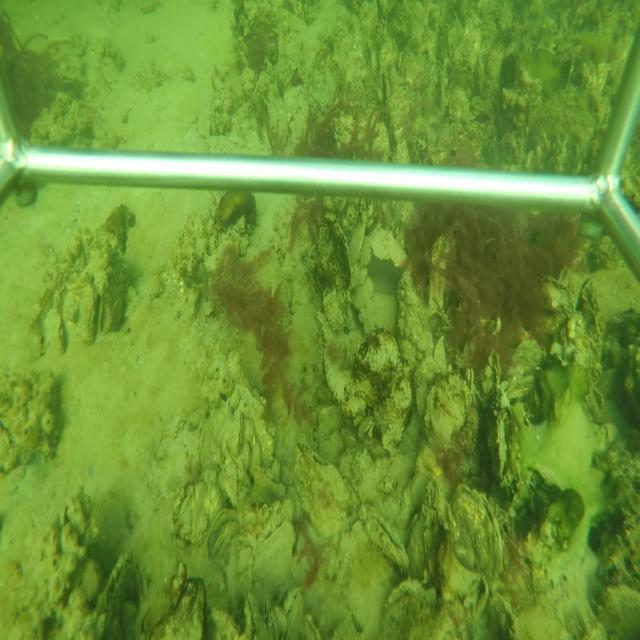Oyster-Closed: (293, 433, 363, 536), (449, 482, 505, 582), (313, 307, 367, 404), (394, 268, 435, 376), (94, 545, 136, 637), (250, 520, 298, 592), (489, 350, 512, 487), (362, 508, 411, 572), (327, 223, 355, 301), (204, 500, 241, 557), (367, 223, 411, 270), (535, 275, 575, 325), (220, 442, 241, 504), (249, 464, 287, 495), (243, 588, 264, 640), (210, 608, 241, 639), (229, 410, 244, 458)
Oyster-Indeterminate: (422, 370, 474, 450)
Oyster-Open: (375, 70, 391, 112)
